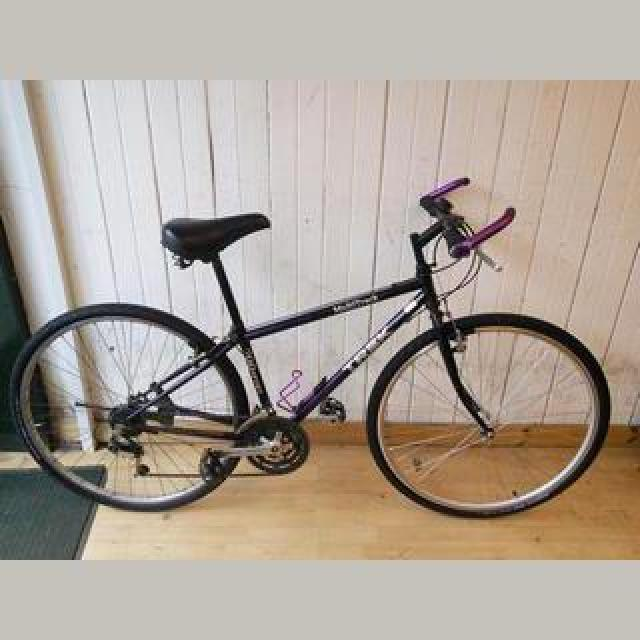Person: (2, 174, 612, 518)
